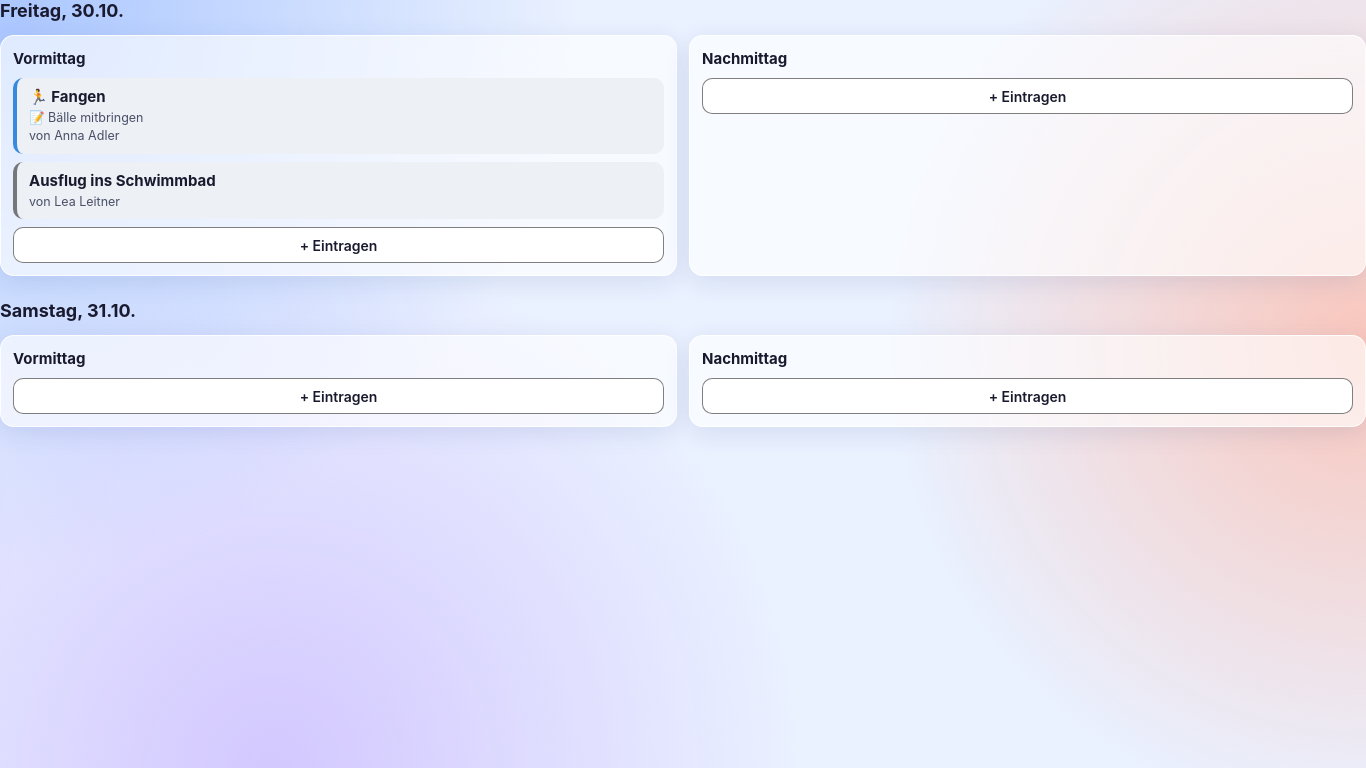
Scenario: Wochenplan: TeamerIn › sucht im Katalog und filtert nach Kategorie
The width and height of the screenshot is (1366, 768).
expect the text "🏃 Fangen" is shown: met, box 29,87 -> 106,106
Click the 3rd button "+ Eintragen": {"x": 338, "y": 396} 13,378 -> 664,414
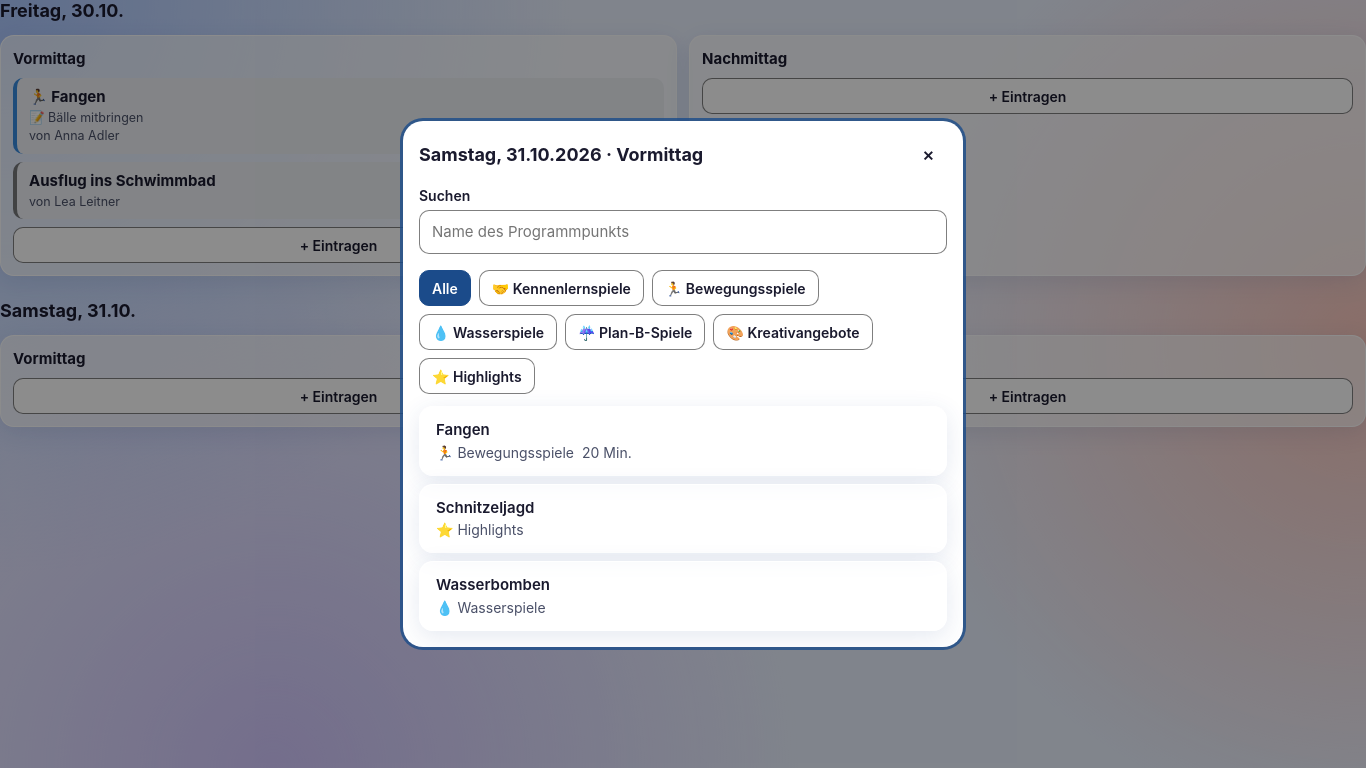
expect the button "Schnitzeljagd ⭐ Highlights" is shown: met, box 419,484 -> 947,553
In the search field labelled "Suchen": {"x": 683, "y": 232} 419,210 -> 947,254, type "wasser"
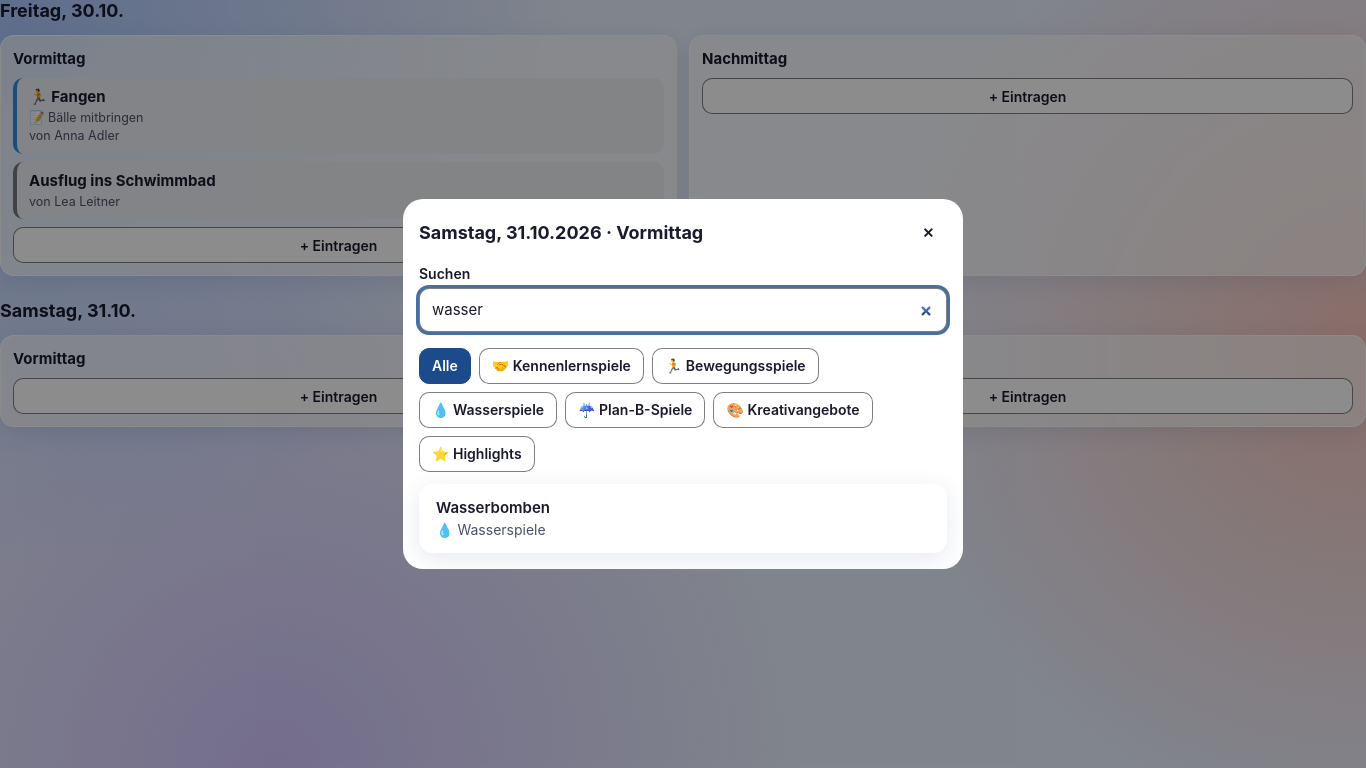
expect the number of buttons "Wasserbomben 💧 Wasserspiele" is 1: met, box 419,484 -> 947,553
Clear the search field labelled "Suchen": {"x": 683, "y": 310} 419,288 -> 947,332
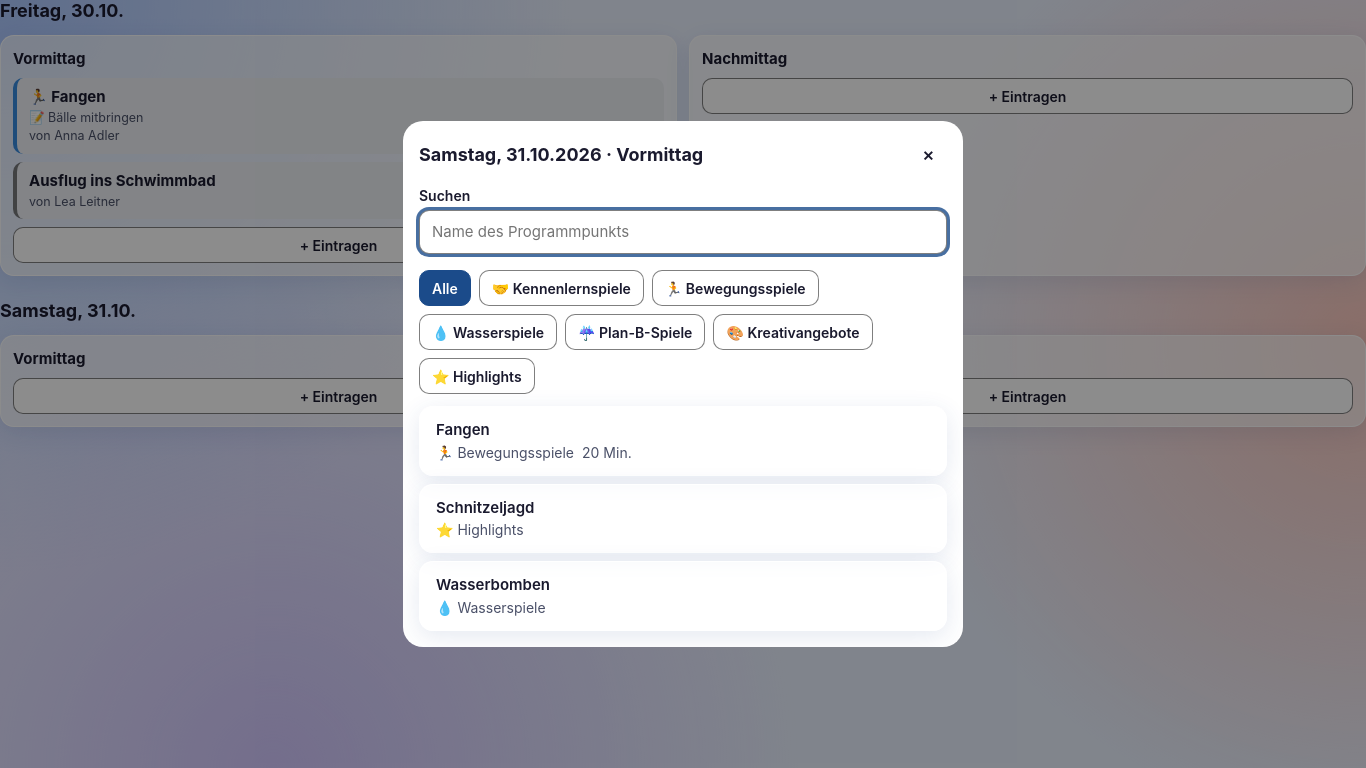
Click the button "⭐ Highlights": {"x": 477, "y": 376} 419,358 -> 535,394
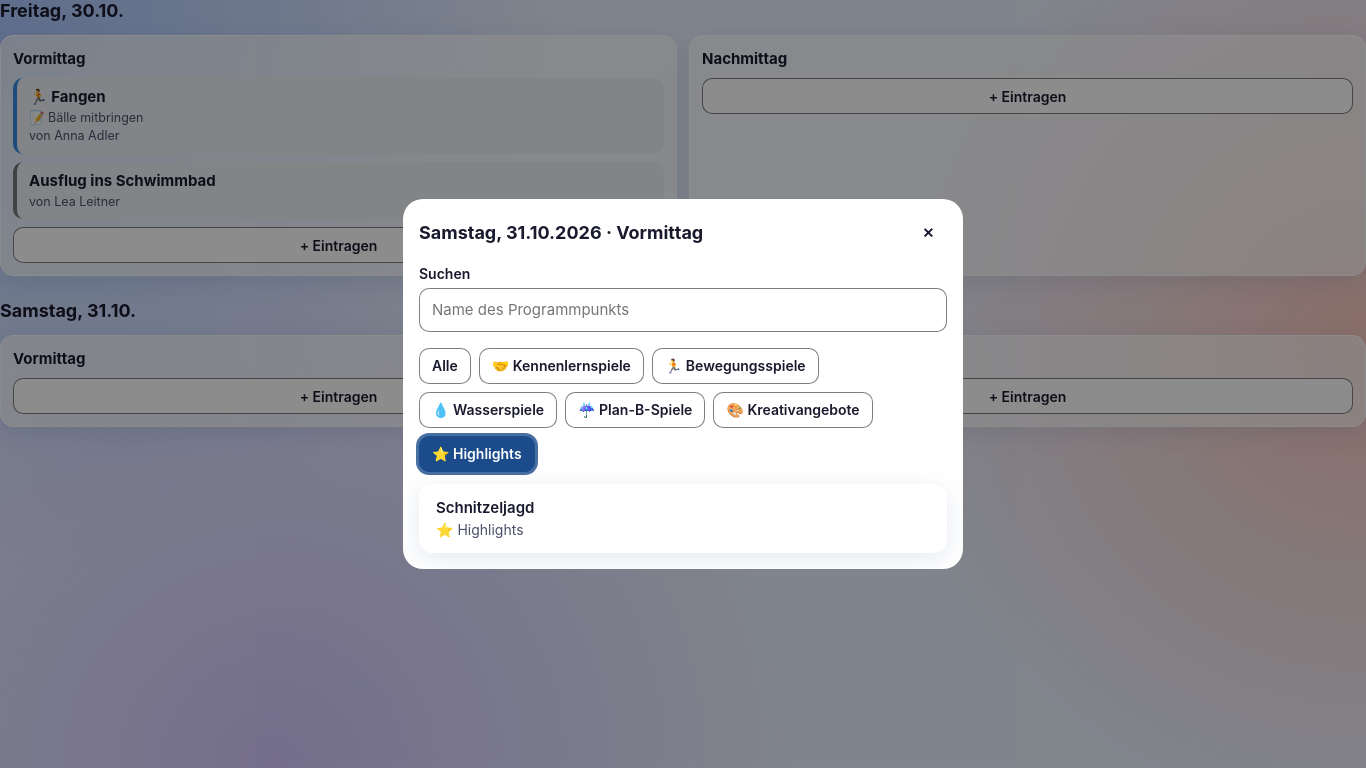
expect the button "Schnitzeljagd ⭐ Highlights" is shown: met, box 419,484 -> 947,553
expect the button "Wasserbomben" is gone: met
In the search field labelled "Suchen": {"x": 683, "y": 310} 419,288 -> 947,332, type "gibtesnicht"
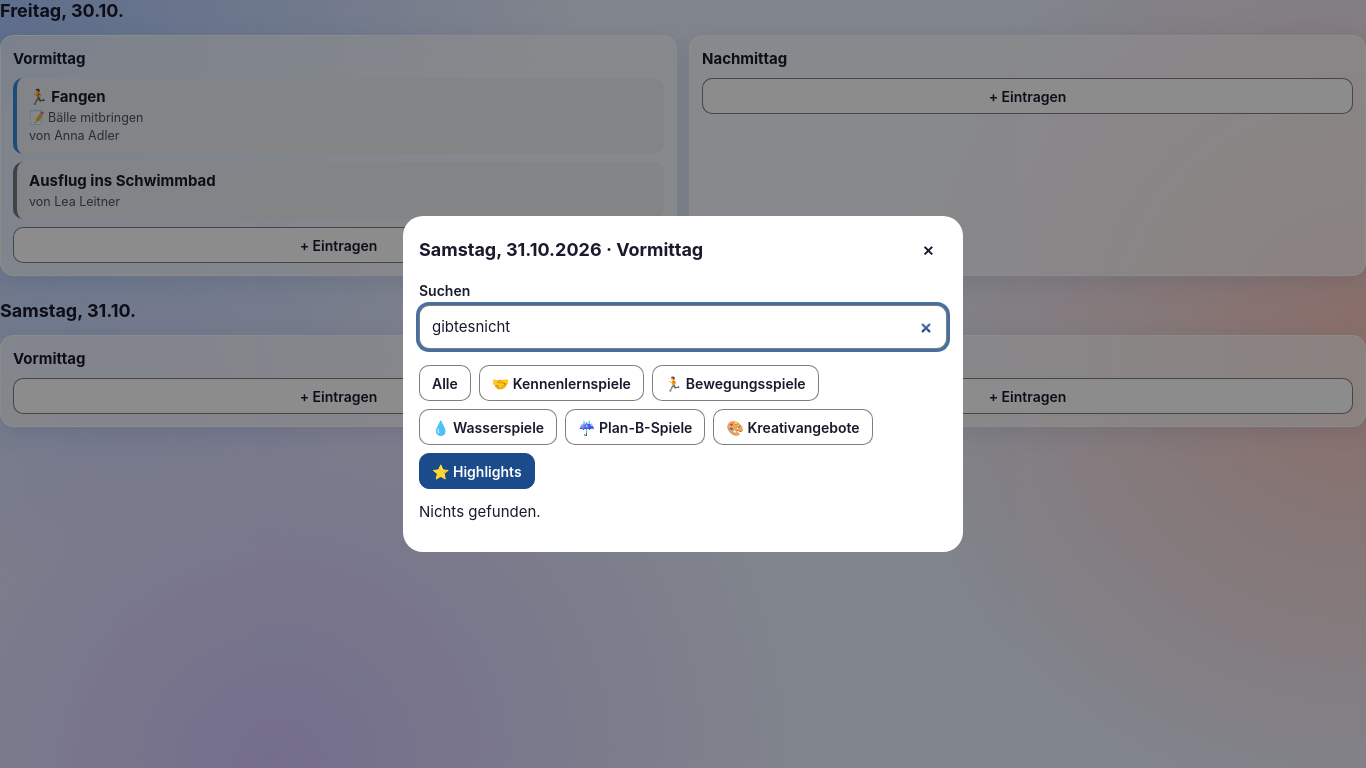
expect the text "Nichts gefunden." is shown: met, box 419,502 -> 541,521
